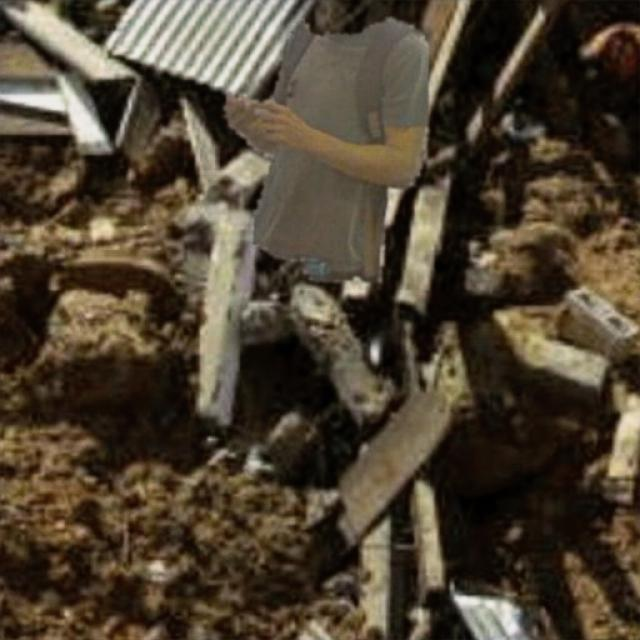Person in Rubble: (223, 18, 428, 282)
